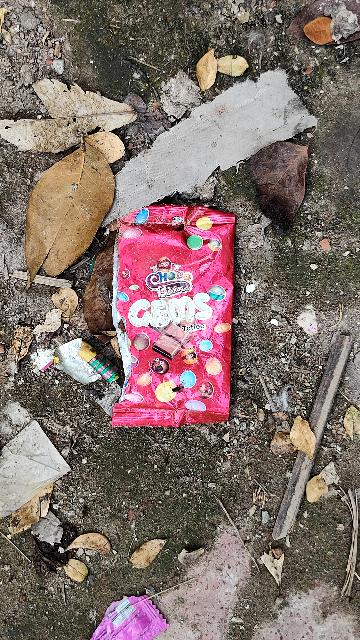packet: (97, 205, 246, 437)
